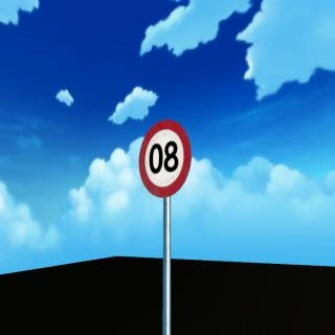speed80: (138, 114, 195, 201)
